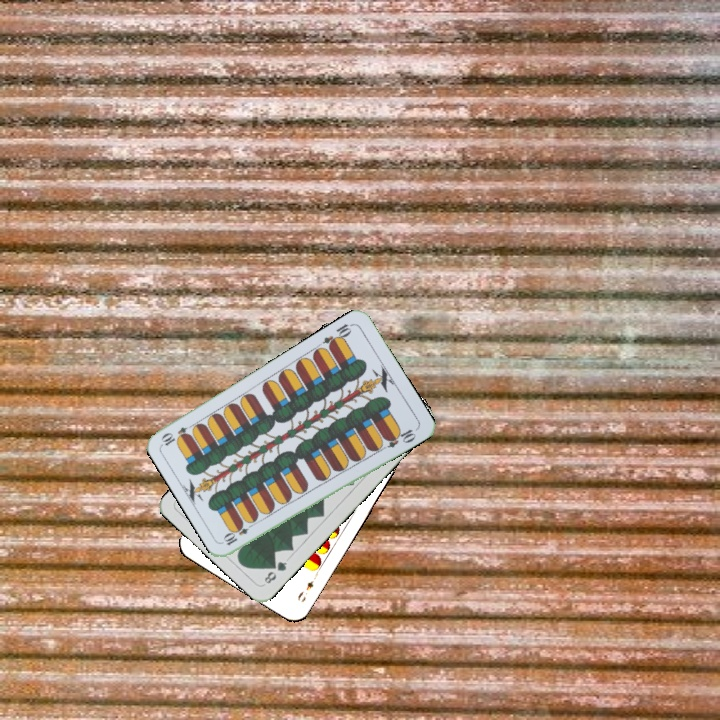E10: (319, 319, 356, 351), (220, 518, 257, 548)
E9: (293, 577, 316, 605)
G8: (260, 557, 290, 587)
